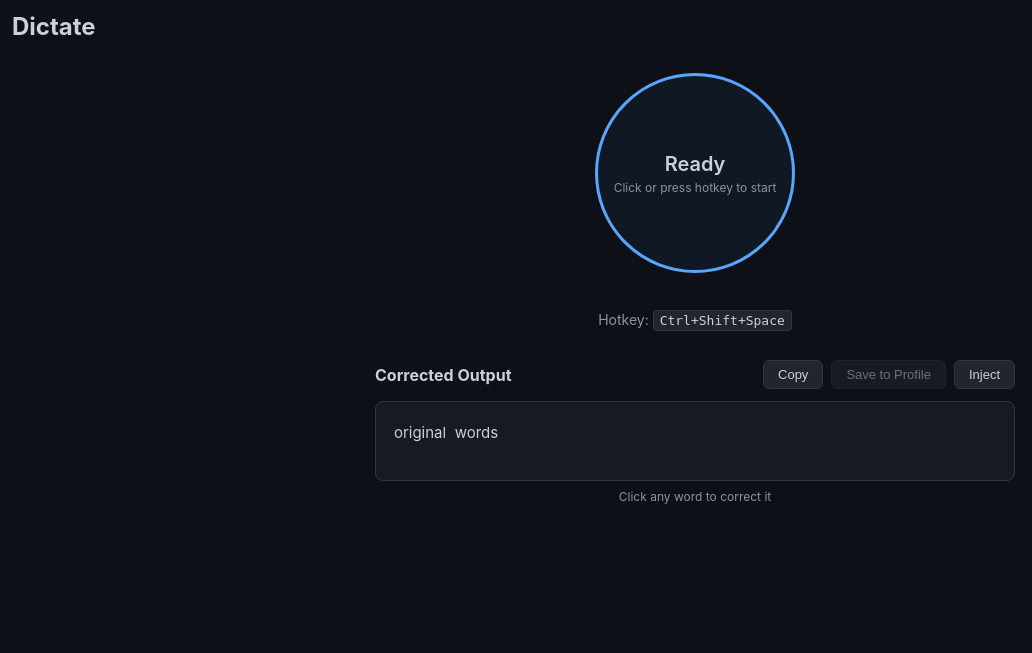
Test: Dictate lifecycle and review ownership › ignores an older session save success
The image size is (1032, 653).
Click the button "original" at (420, 432), box [392,418,448,447]
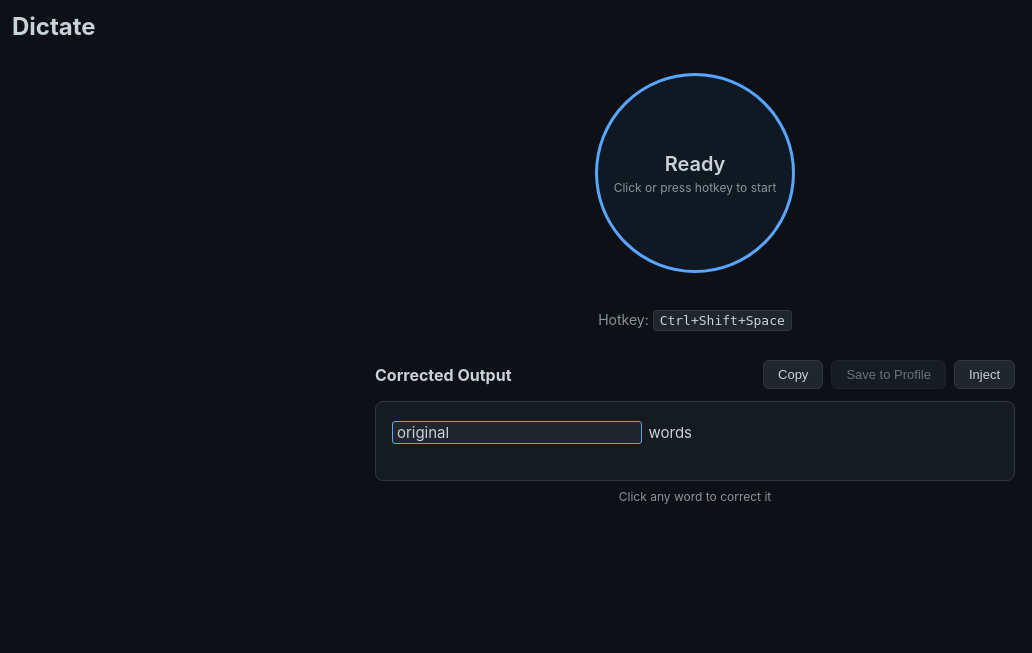
Replace the text in the field with "first" at (517, 432), box [392,421,642,444]
Press Enter in the field, box [392,421,642,444]
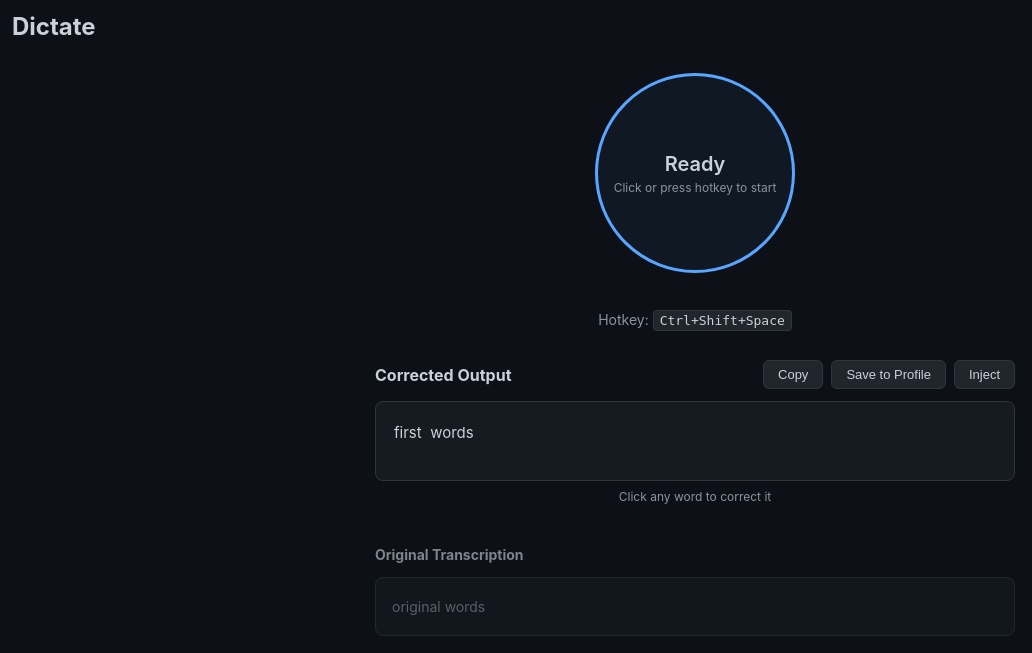
Click the button "Save to Profile" at (889, 374), box [831,360,946,389]
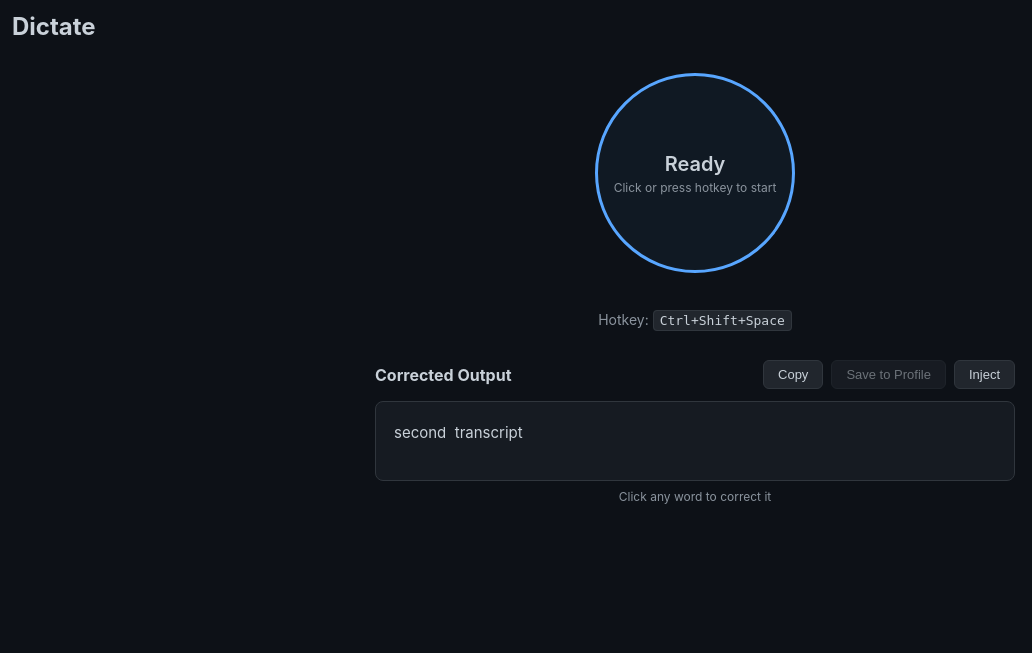
Check: the button "second" is shown
Click the button "second" at (420, 432), box [392,418,448,447]
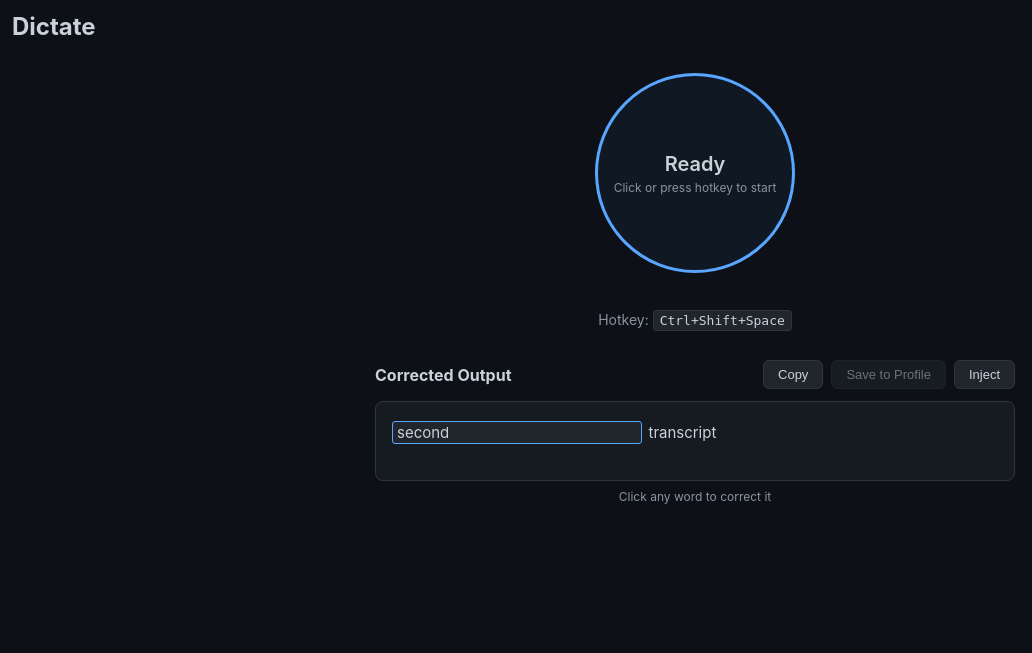
Replace the text in the field with "newer" at (517, 432), box [392,421,642,444]
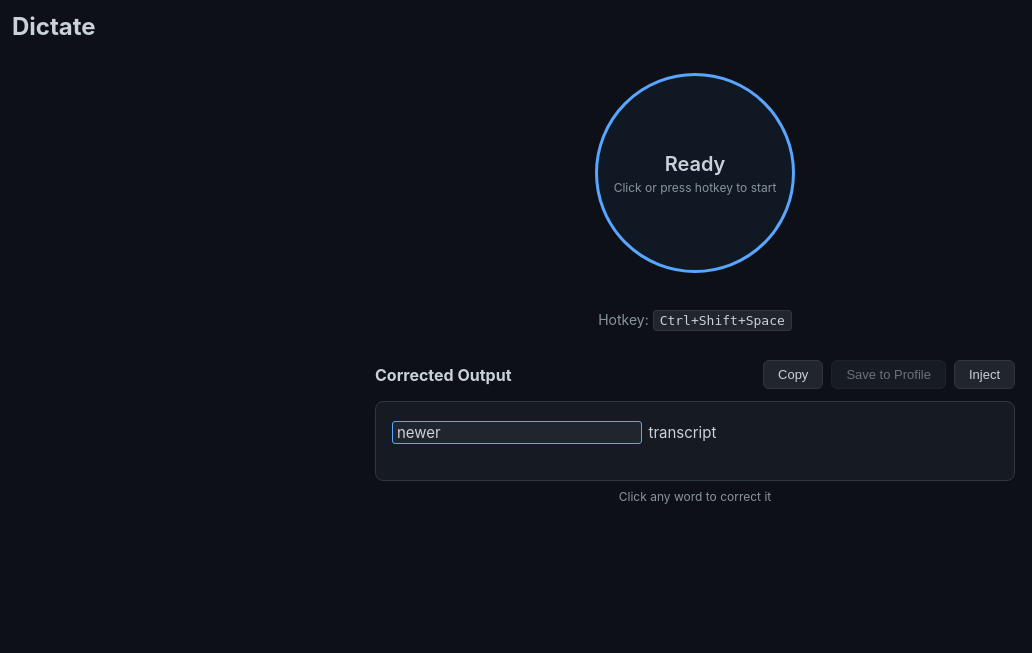
Press Enter in the field, box [392,421,642,444]
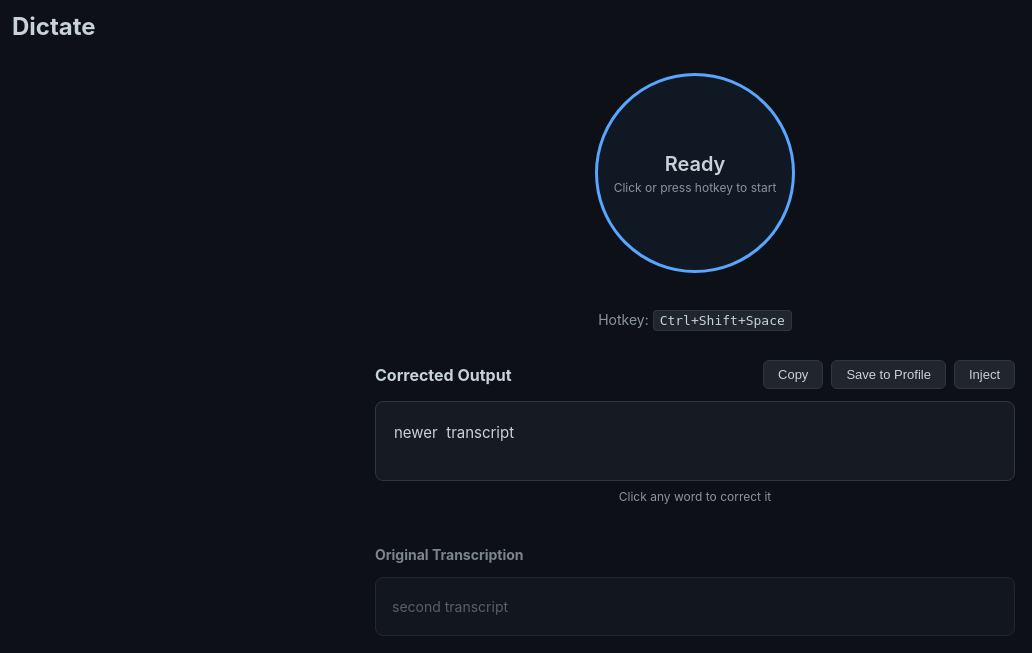
Check: the button "Save to Profile" is enabled, box [831,360,946,389]
